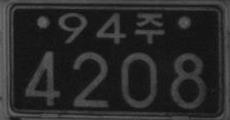0: (120, 51, 157, 109)
2: (72, 51, 109, 108)
4: (26, 51, 60, 106), (96, 12, 126, 44)
8: (169, 51, 208, 110)
9: (57, 11, 88, 44)
주: (134, 12, 164, 45)
